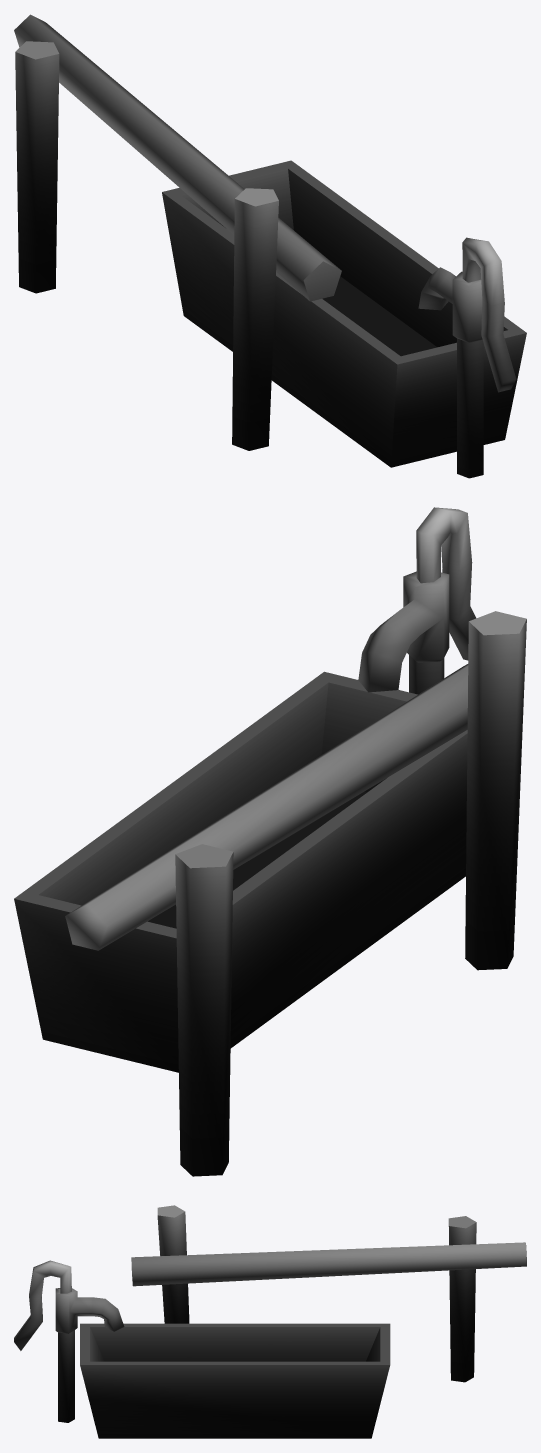
The model's file is Cover6.glb.
The picture shows the model from 3 angles, top to bottom: view 1: azimuth 30°, elevation 25°; view 2: azimuth 150°, elevation 25°; view 3: azimuth 270°, elevation 25°; orthographic projection. The views are drawn at different scales.
Parts seen in each view (by area): view 1: Cover6; view 2: Cover6; view 3: Cover6.
Part boxes in pixels (left/top/right/bottom): Cover6: left=14, top=14, right=526, bottom=478; Cover6: left=14, top=507, right=526, bottom=1176; Cover6: left=14, top=1205, right=526, bottom=1438.
Size of what is drawn, in the model's own units: 1.62 by 1.77 by 4.98.
Materials: 1 (1 with a texture image).
